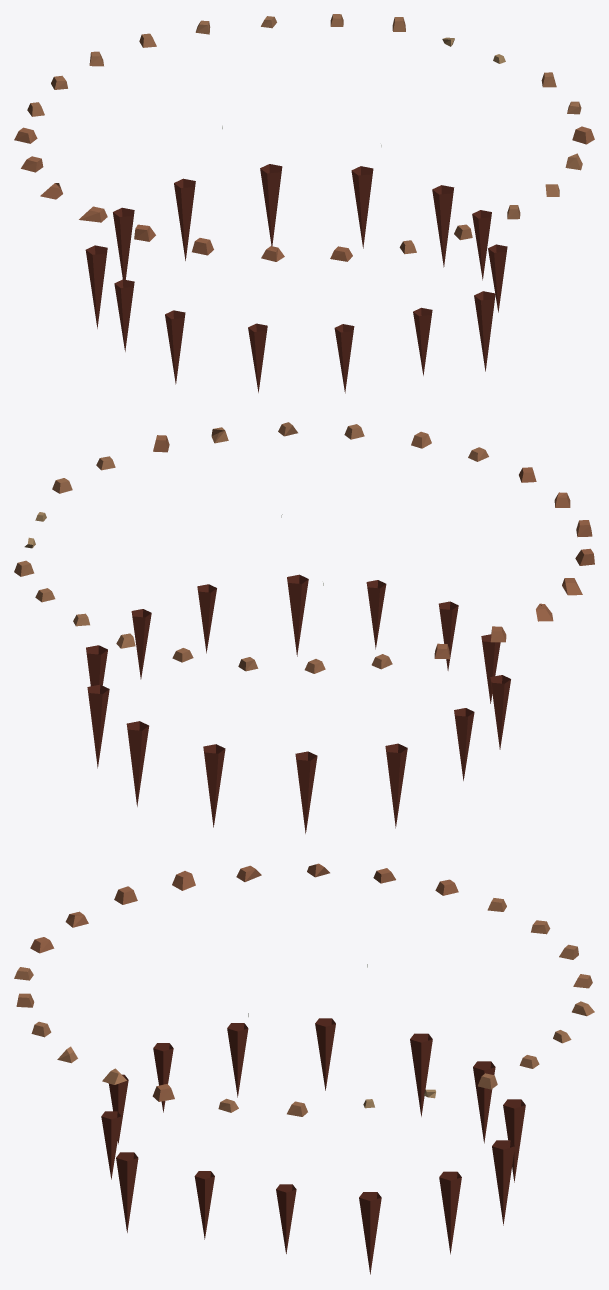
Rendered from floating_island_detail1.glb.
3 renders of one model, top to bottom at view 1: azimuth 30°, elevation 25°; view 2: azimuth 150°, elevation 25°; view 3: azimuth 270°, elevation 25°, orthographic.
Visible parts, largest first — view 1: floating_island_detail1; view 2: floating_island_detail1; view 3: floating_island_detail1.
Part boxes in pixels (bbox=[...]): floating_island_detail1: bbox=[14, 14, 594, 393]; floating_island_detail1: bbox=[14, 422, 594, 833]; floating_island_detail1: bbox=[14, 863, 594, 1274].
Bounding box in the file's own units: 177 × 69.65 × 174.
